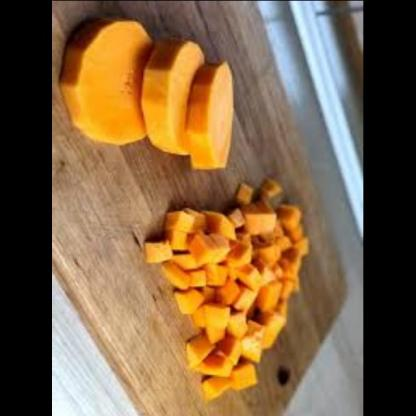pumpkin: (130, 177, 324, 396), (61, 14, 150, 143), (142, 36, 208, 158), (186, 59, 240, 174)
